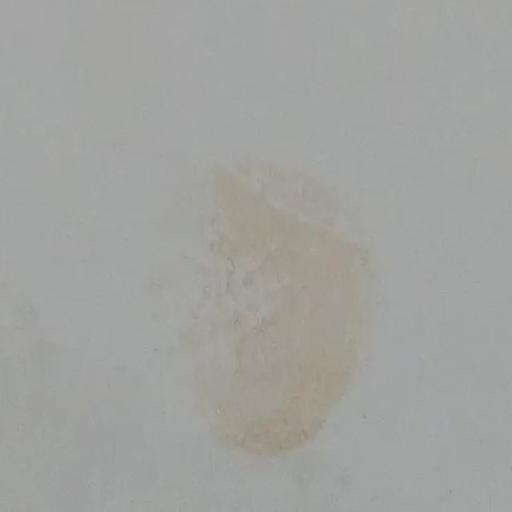stain: (181, 147, 404, 488)
